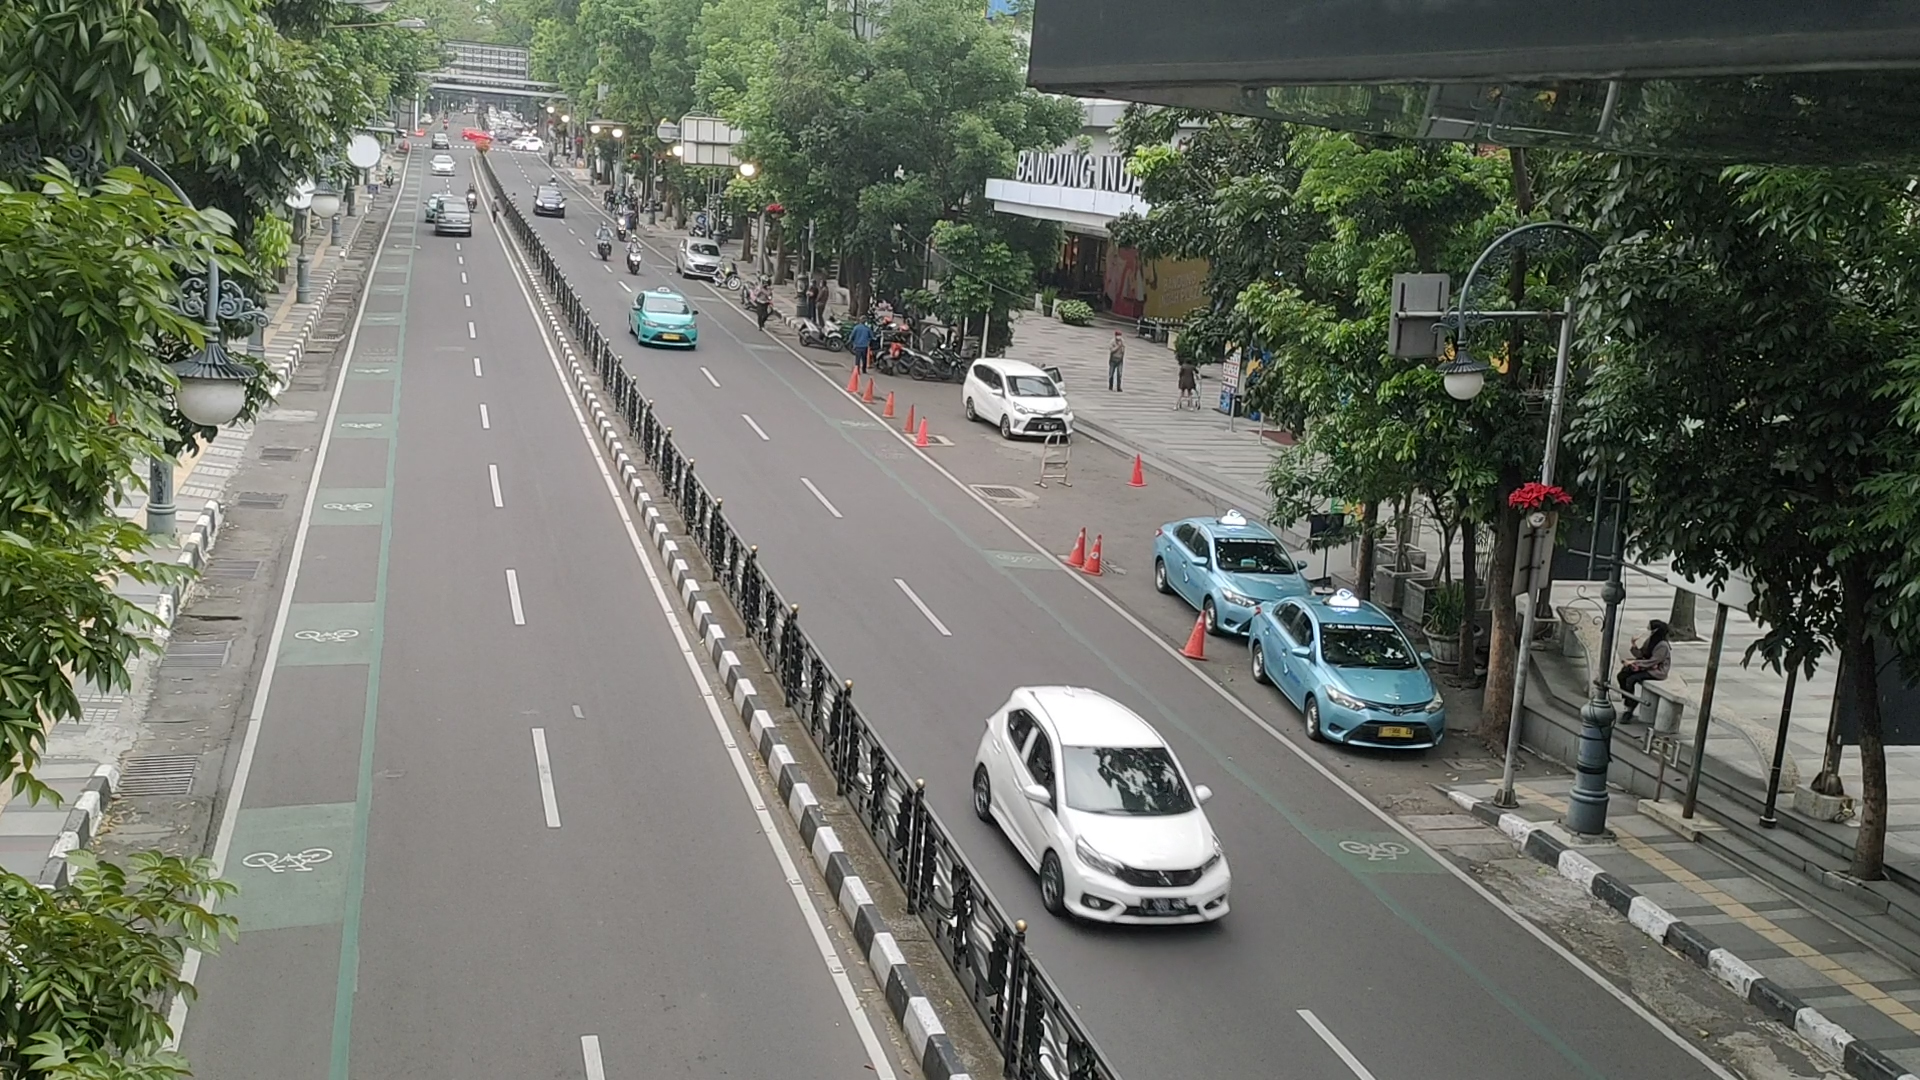mobil: (1042, 738, 1244, 936), (1305, 620, 1447, 760), (998, 369, 1077, 440), (632, 291, 698, 351)
